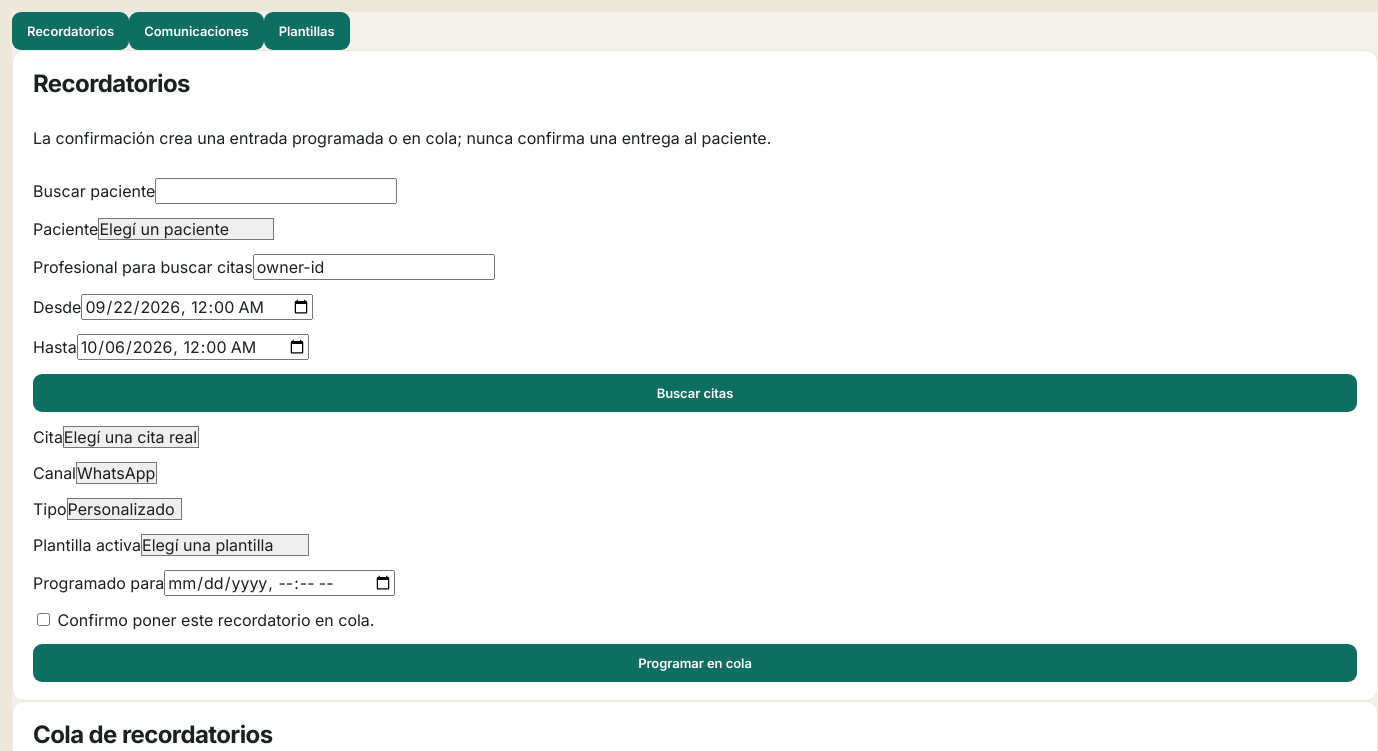
RemindersPage communication access › rejects a fresh appointment with missing or empty patientId before scheduling
Select "Ana Uno · expediente 1" in the dropdown labelled "Paciente": [186, 229] box top-left (98, 218), bottom-right (274, 240)
Click the button "Buscar citas": [695, 393] box top-left (33, 374), bottom-right (1357, 412)
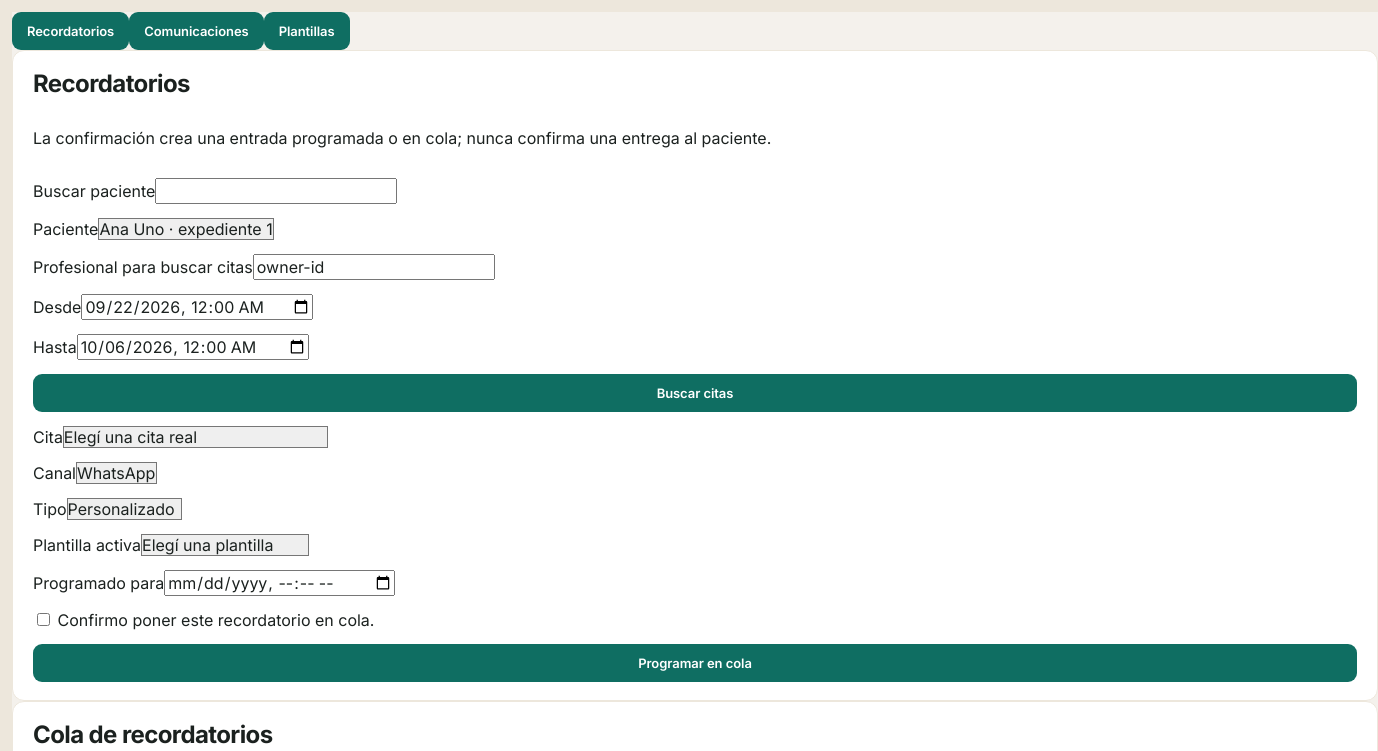
Select "2026-09-14T15:00:00Z · PENDING" in the dropdown labelled "Cita": [195, 437] box top-left (63, 426), bottom-right (328, 448)
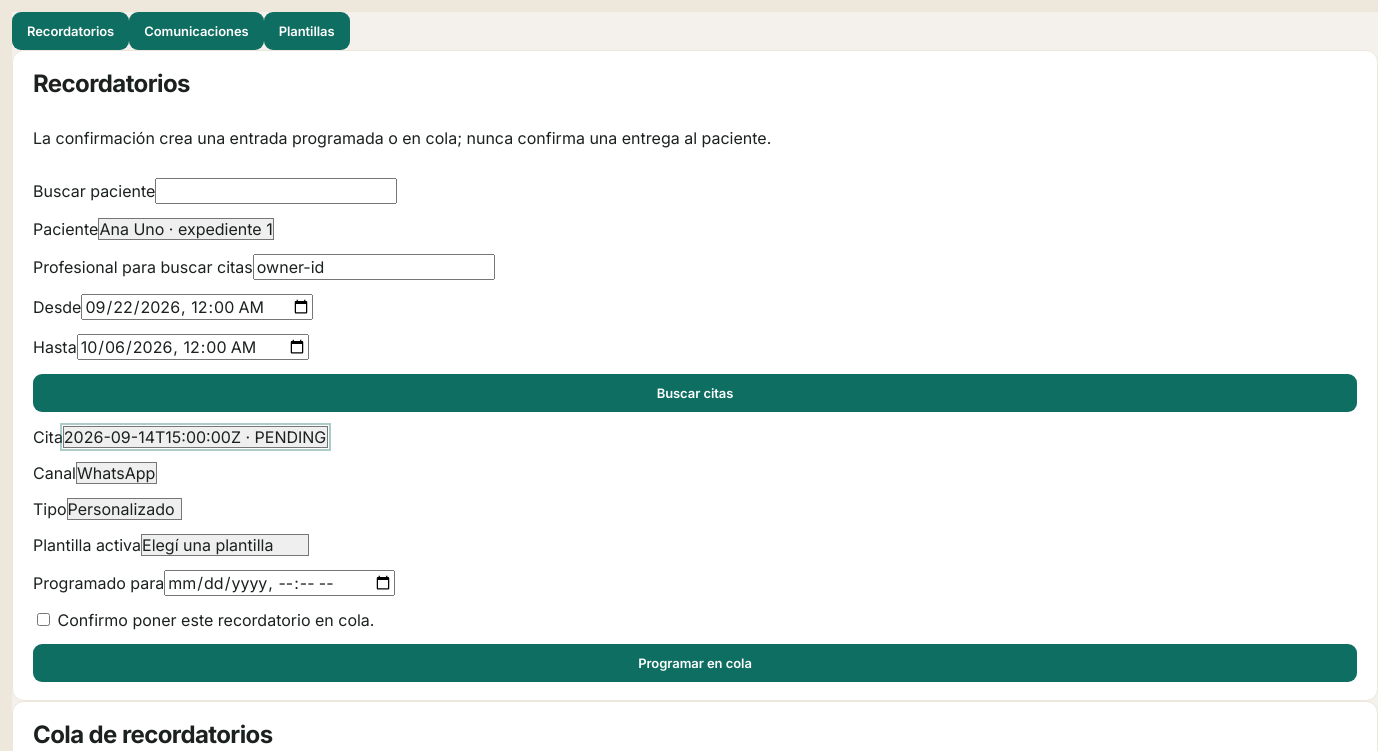
Select "REMINDER · versión 2" in the dropdown labelled "Plantilla activa": [225, 545] box top-left (141, 534), bottom-right (309, 556)
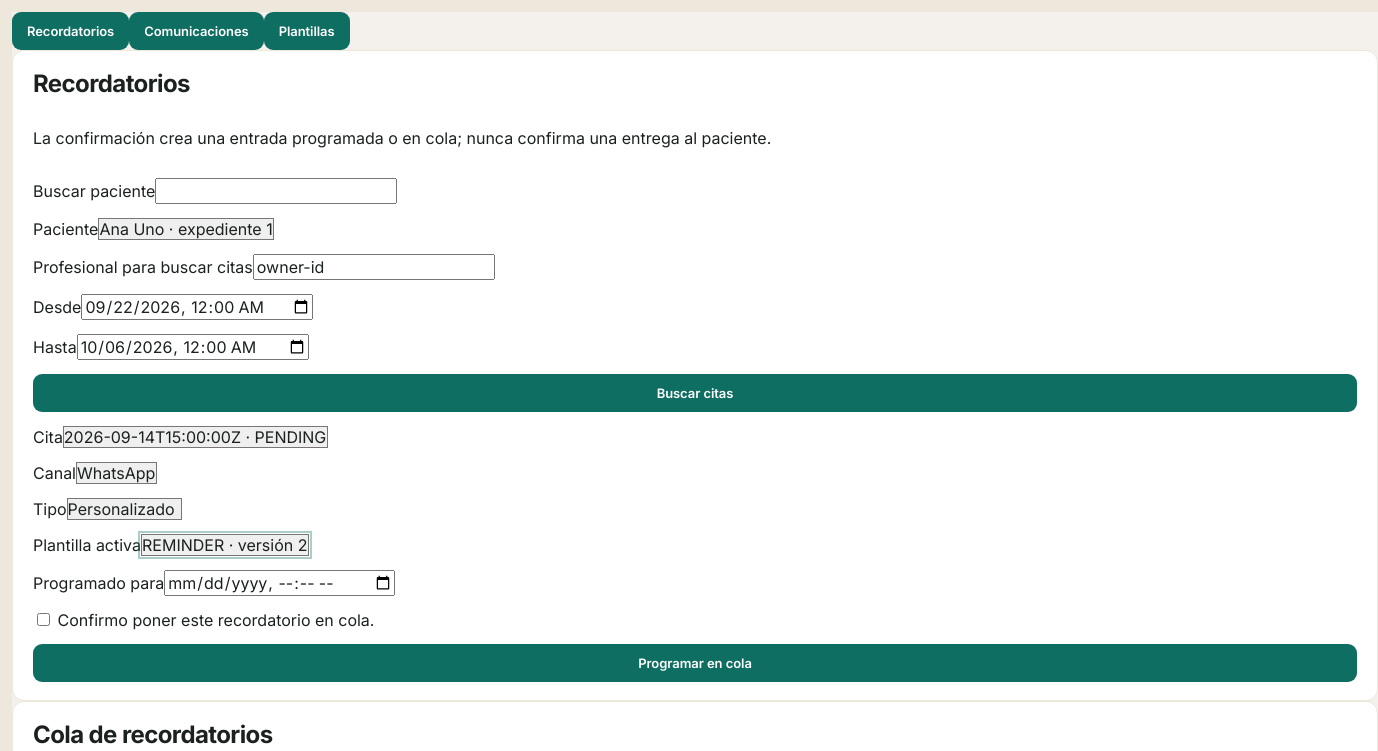
In the field labelled "Programado para": [280, 583] box top-left (164, 570), bottom-right (395, 596), type "2026-09-14T10:00"
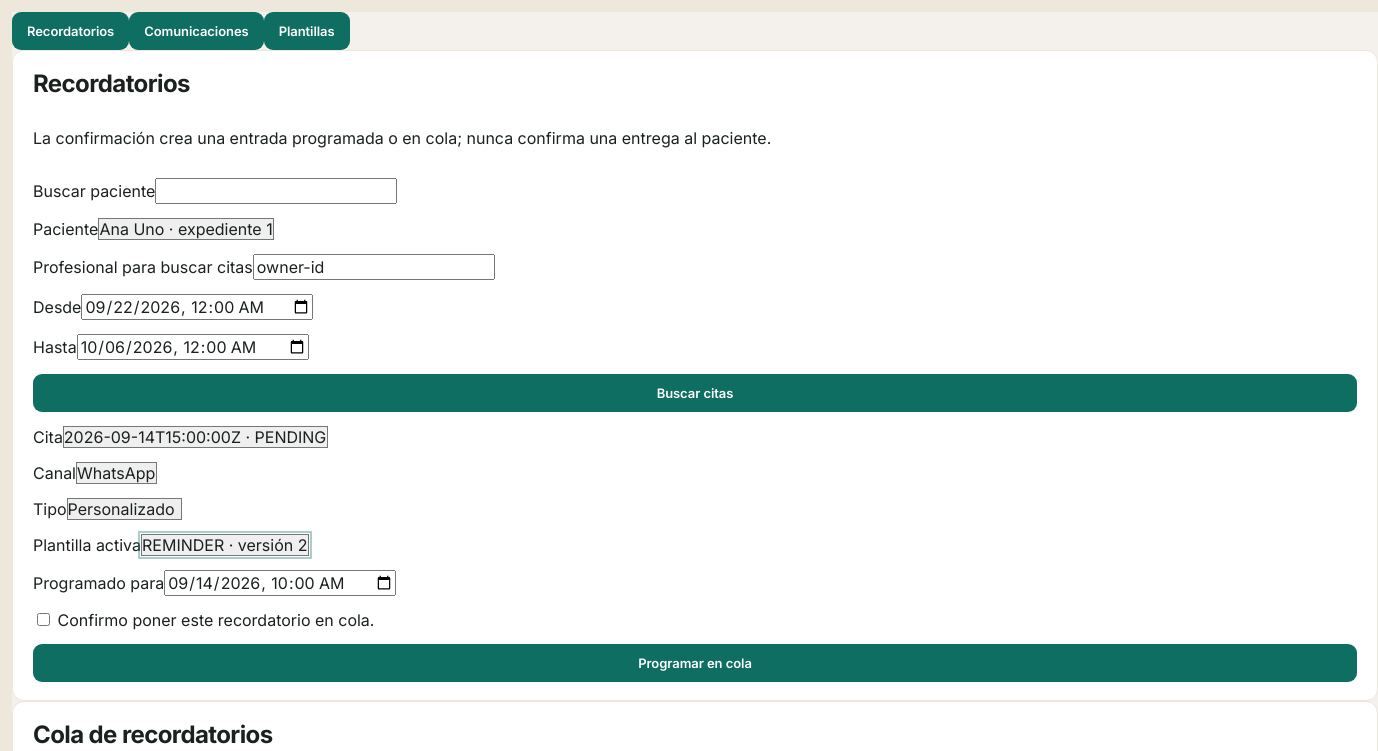
Click the checkbox labelled "Confirmo poner este recordatorio en cola.": [44, 620] box top-left (37, 613), bottom-right (50, 626)
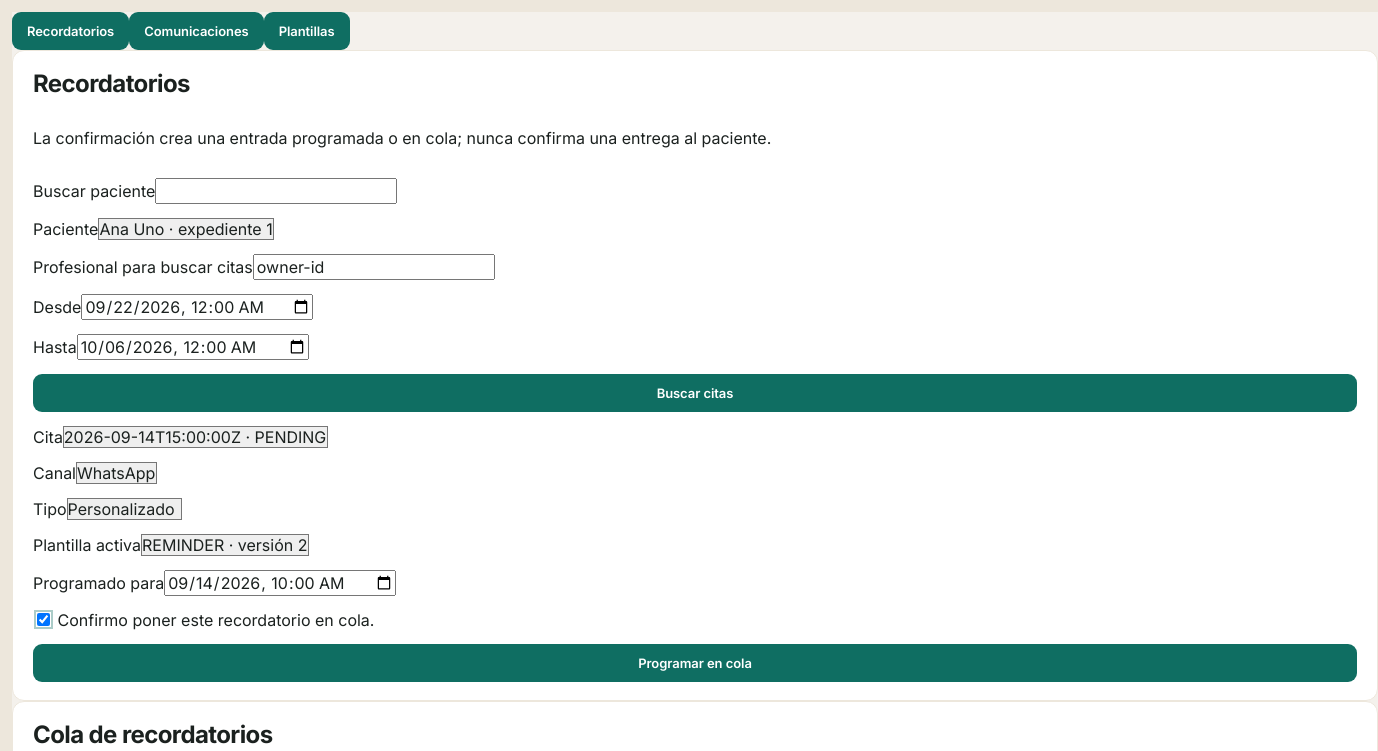
Click the button "Programar en cola": [695, 663] box top-left (33, 644), bottom-right (1357, 682)
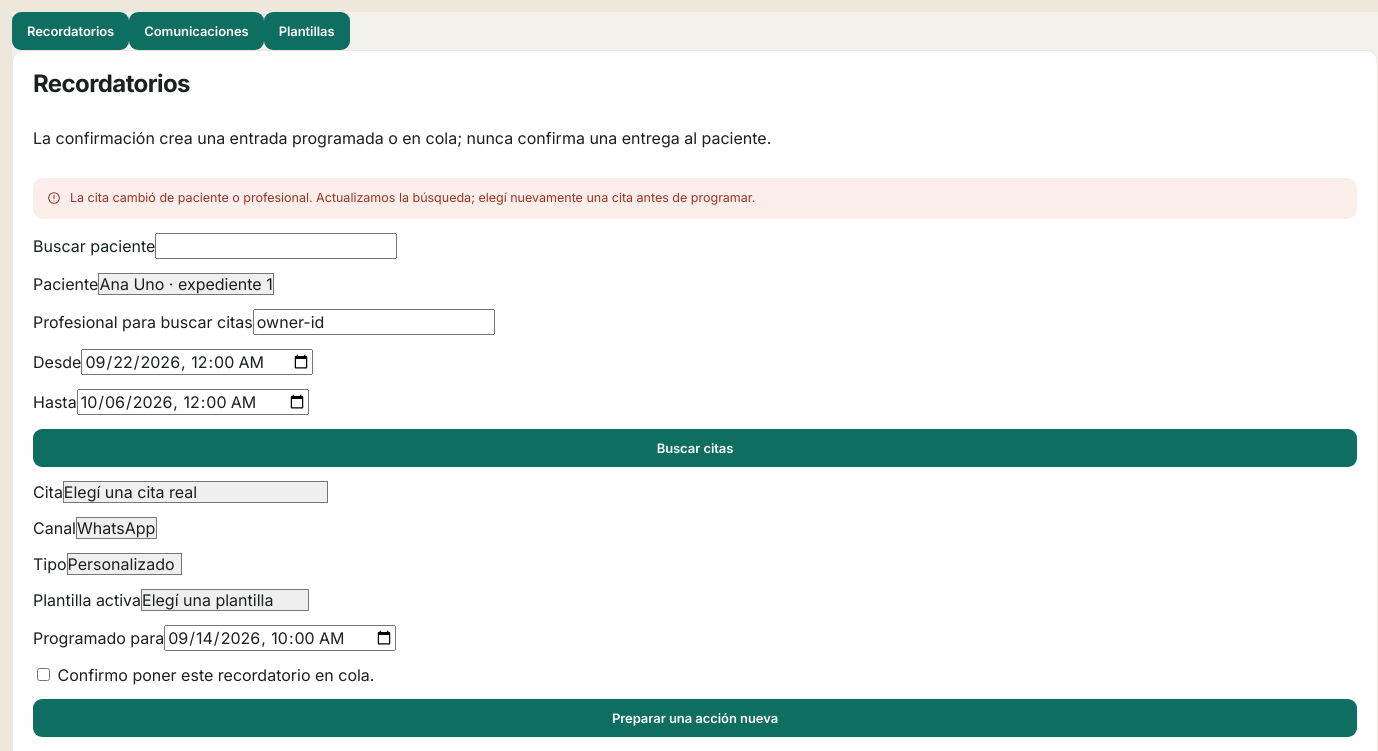
Expected: the text "cita cambió de paciente o profesional" is shown, top-left (70, 190), bottom-right (755, 205)
